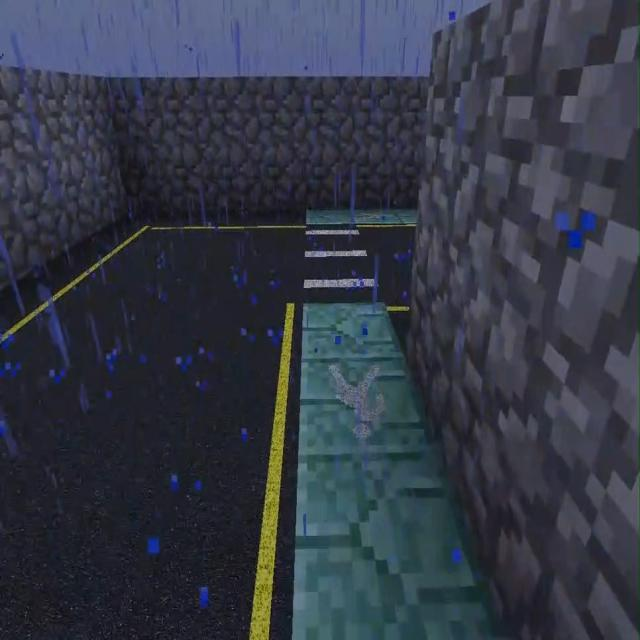8: (305, 226, 384, 299)
crosswalk: (0, 215, 302, 639), (366, 228, 419, 303)
road: (292, 302, 509, 639), (307, 209, 419, 225)
